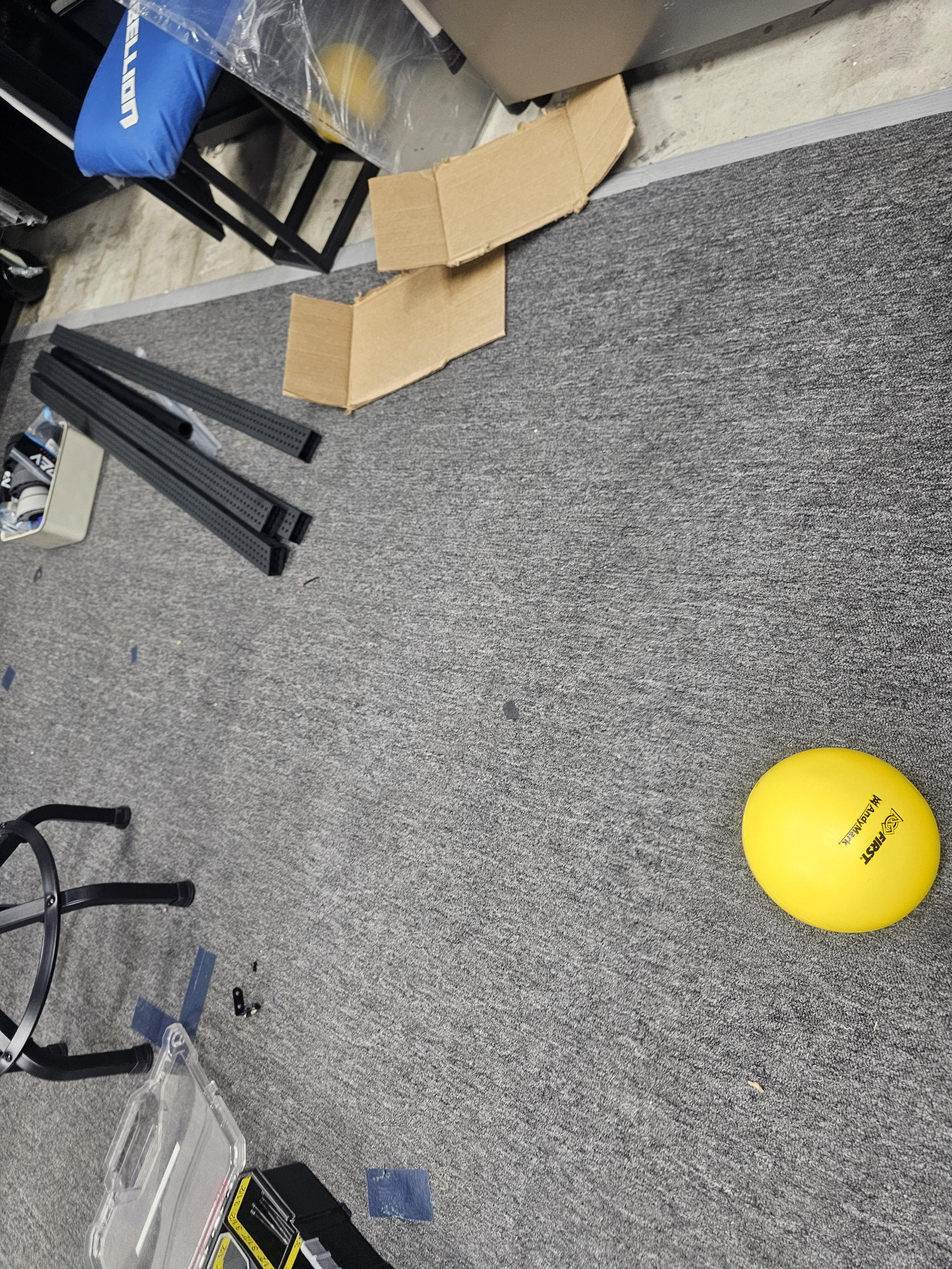fuel: (731, 737, 951, 945)
